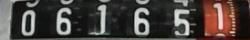digits: (168, 6, 198, 40), (91, 4, 115, 36), (132, 7, 150, 34), (55, 7, 72, 34), (20, 10, 36, 35), (212, 2, 224, 28)
